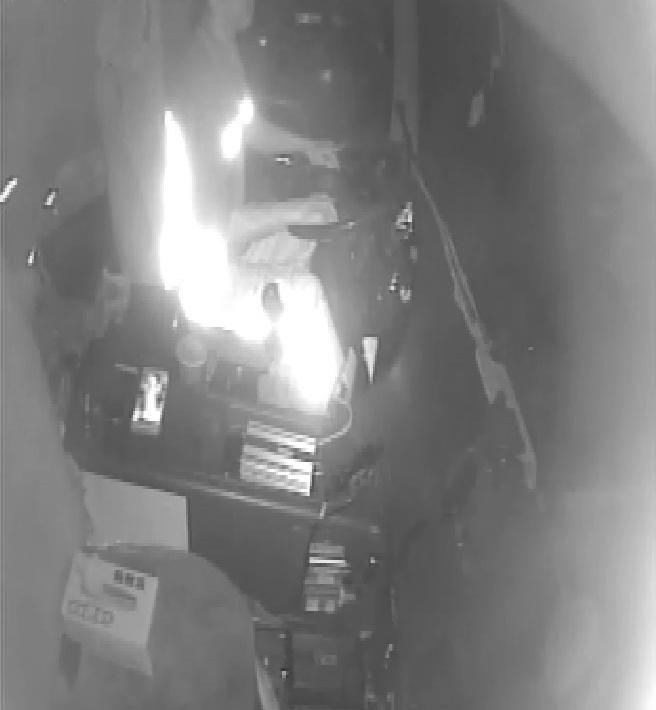cellphone: (128, 369, 169, 437)
